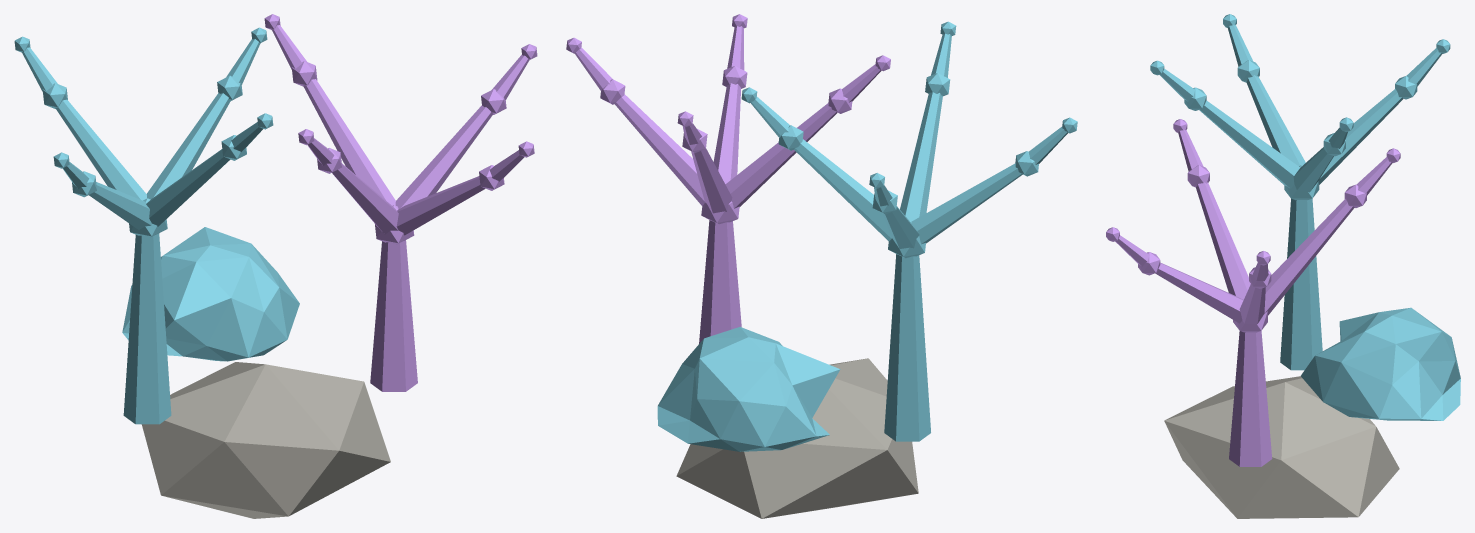
Rendered from ASTX_VEG_CORAL_A.glb.
The picture shows the model from 3 angles, left to right: view 1: azimuth 30°, elevation 25°; view 2: azimuth 150°, elevation 25°; view 3: azimuth 270°, elevation 25°; orthographic projection. The views are drawn at different scales.
Parts seen in each view (by area): view 1: ASTX_VEG_CORAL_A_base, ASTX_VEG_CORAL_A_dome, ASTX_VEG_CORAL_A_blue_stem, ASTX_VEG_CORAL_A_purp_stem, ASTX_VEG_CORAL_A_purp_t1, ASTX_VEG_CORAL_A_purp_t0, ASTX_VEG_CORAL_A_blue_t1, ASTX_VEG_CORAL_A_blue_t0, ASTX_VEG_CORAL_A_blue_t3, ASTX_VEG_CORAL_A_purp_t3, ASTX_VEG_CORAL_A_purp_t2, ASTX_VEG_CORAL_A_blue_t2 (+4 smaller); view 2: ASTX_VEG_CORAL_A_base, ASTX_VEG_CORAL_A_dome, ASTX_VEG_CORAL_A_blue_stem, ASTX_VEG_CORAL_A_purp_stem, ASTX_VEG_CORAL_A_blue_t3, ASTX_VEG_CORAL_A_blue_t2, ASTX_VEG_CORAL_A_purp_t0, ASTX_VEG_CORAL_A_purp_t2, ASTX_VEG_CORAL_A_blue_t0, ASTX_VEG_CORAL_A_purp_t3, ASTX_VEG_CORAL_A_purp_t1, ASTX_VEG_CORAL_A_blue_t1 (+5 smaller); view 3: ASTX_VEG_CORAL_A_base, ASTX_VEG_CORAL_A_dome, ASTX_VEG_CORAL_A_blue_stem, ASTX_VEG_CORAL_A_purp_stem, ASTX_VEG_CORAL_A_purp_t1, ASTX_VEG_CORAL_A_purp_t2, ASTX_VEG_CORAL_A_blue_t3, ASTX_VEG_CORAL_A_blue_t2, ASTX_VEG_CORAL_A_purp_t3, ASTX_VEG_CORAL_A_blue_t1, ASTX_VEG_CORAL_A_blue_t0, ASTX_VEG_CORAL_A_purp_t0 (+6 smaller).
Part boxes in pixels (box(x1,y1,x2,y2)): ASTX_VEG_CORAL_A_base: box(141, 362, 390, 518); ASTX_VEG_CORAL_A_dome: box(122, 227, 299, 361); ASTX_VEG_CORAL_A_blue_stem: box(123, 233, 171, 424); ASTX_VEG_CORAL_A_purp_stem: box(370, 240, 417, 391); ASTX_VEG_CORAL_A_purp_t1: box(303, 79, 395, 205); ASTX_VEG_CORAL_A_purp_t0: box(395, 105, 493, 208); ASTX_VEG_CORAL_A_blue_t1: box(55, 99, 146, 200); ASTX_VEG_CORAL_A_blue_t0: box(147, 93, 230, 199); ASTX_VEG_CORAL_A_blue_t3: box(146, 149, 230, 226); ASTX_VEG_CORAL_A_purp_t3: box(396, 176, 485, 235); ASTX_VEG_CORAL_A_purp_t2: box(332, 163, 398, 234); ASTX_VEG_CORAL_A_blue_t2: box(89, 182, 151, 229); ASTX_VEG_CORAL_A_base: box(676, 358, 918, 518); ASTX_VEG_CORAL_A_dome: box(657, 327, 840, 451); ASTX_VEG_CORAL_A_blue_stem: box(884, 254, 930, 441); ASTX_VEG_CORAL_A_purp_stem: box(699, 220, 741, 343); ASTX_VEG_CORAL_A_blue_t3: box(900, 92, 942, 221); ASTX_VEG_CORAL_A_blue_t2: box(911, 163, 1022, 244); ASTX_VEG_CORAL_A_purp_t0: box(614, 94, 704, 206); ASTX_VEG_CORAL_A_purp_t2: box(725, 103, 837, 208); ASTX_VEG_CORAL_A_blue_t0: box(794, 139, 891, 241); ASTX_VEG_CORAL_A_purp_t3: box(713, 83, 740, 183); ASTX_VEG_CORAL_A_purp_t1: box(691, 148, 732, 213); ASTX_VEG_CORAL_A_blue_t1: box(883, 206, 919, 248); ASTX_VEG_CORAL_A_base: box(1164, 376, 1399, 518); ASTX_VEG_CORAL_A_dome: box(1301, 307, 1460, 420); ASTX_VEG_CORAL_A_blue_stem: box(1280, 198, 1322, 370); ASTX_VEG_CORAL_A_purp_stem: box(1229, 331, 1272, 466); ASTX_VEG_CORAL_A_purp_t1: box(1264, 199, 1354, 315); ASTX_VEG_CORAL_A_purp_t2: box(1195, 182, 1250, 299); ASTX_VEG_CORAL_A_blue_t3: box(1199, 100, 1300, 188); ASTX_VEG_CORAL_A_blue_t2: box(1246, 75, 1305, 166); ASTX_VEG_CORAL_A_purp_t3: box(1155, 262, 1243, 323); ASTX_VEG_CORAL_A_blue_t1: box(1318, 89, 1403, 184); ASTX_VEG_CORAL_A_blue_t0: box(1293, 147, 1333, 192); ASTX_VEG_CORAL_A_purp_t0: box(1239, 284, 1265, 324).
Size of the model in its own units: 1.33 by 1.17 by 0.9002.
